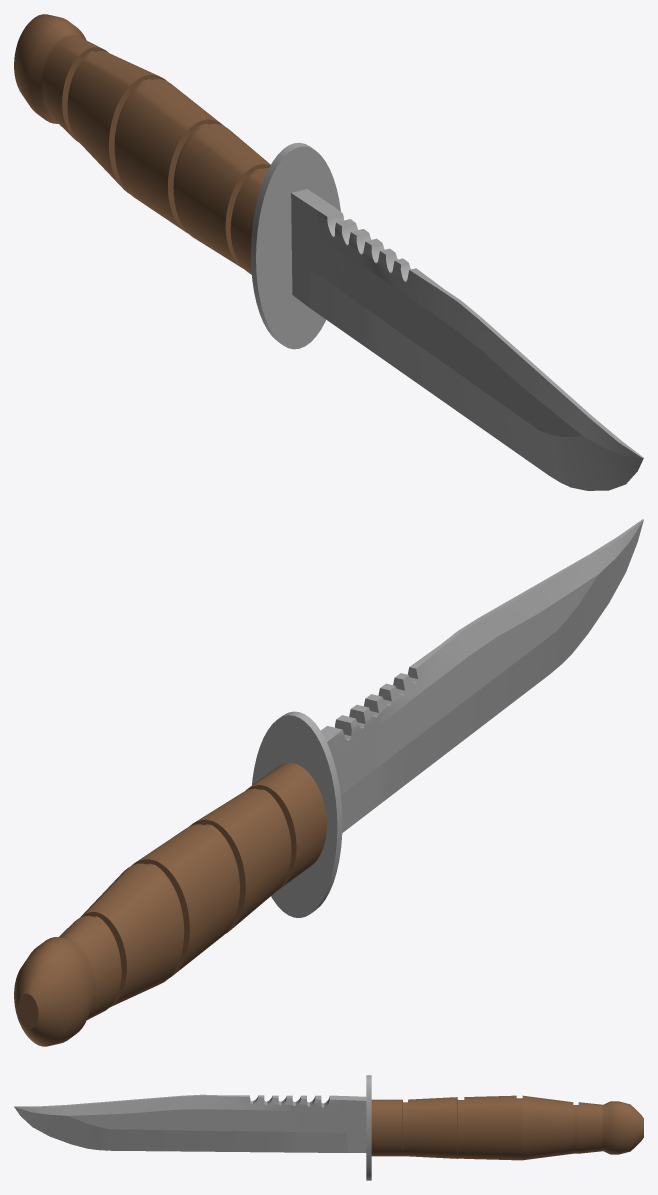
File: knife_fixed.fbx
3 renders of one model, top to bottom at view 1: azimuth 30°, elevation 25°; view 2: azimuth 150°, elevation 25°; view 3: azimuth 270°, elevation 25°, orthographic. The views are drawn at different scales.
Visible parts, largest first — view 1: Plane, Cylinder.001, Cylinder.002; view 2: Cylinder.001, Plane, Cylinder.002; view 3: Plane, Cylinder.001, Cylinder.002.
Boxes of the visible parts, x1,y1,x2,y2 form: Plane: (291, 189, 643, 490); Cylinder.001: (14, 14, 270, 274); Cylinder.002: (251, 142, 340, 349); Cylinder.001: (14, 762, 326, 1046); Plane: (321, 519, 643, 832); Cylinder.002: (252, 711, 342, 917); Plane: (14, 1094, 366, 1152); Cylinder.001: (371, 1095, 643, 1160); Cylinder.002: (366, 1075, 371, 1180).
Size of the model in its own units: 36.86 by 82.19 by 454.
